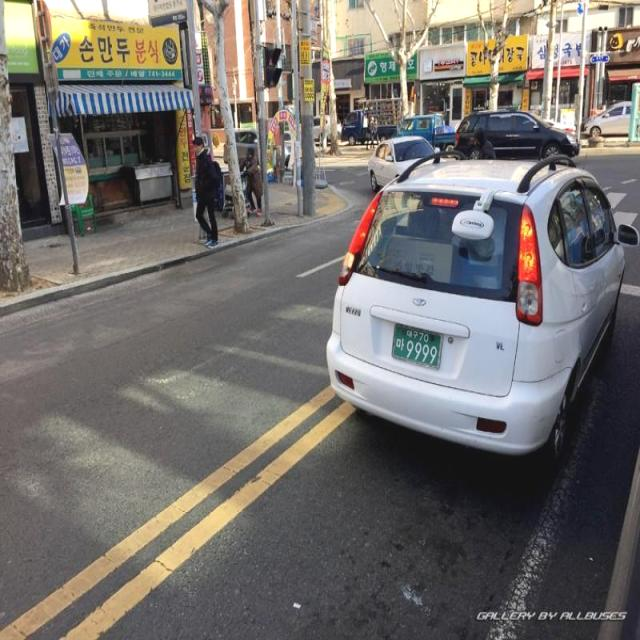car: (323, 150, 640, 463)
illegal_plate: (390, 320, 446, 377)
